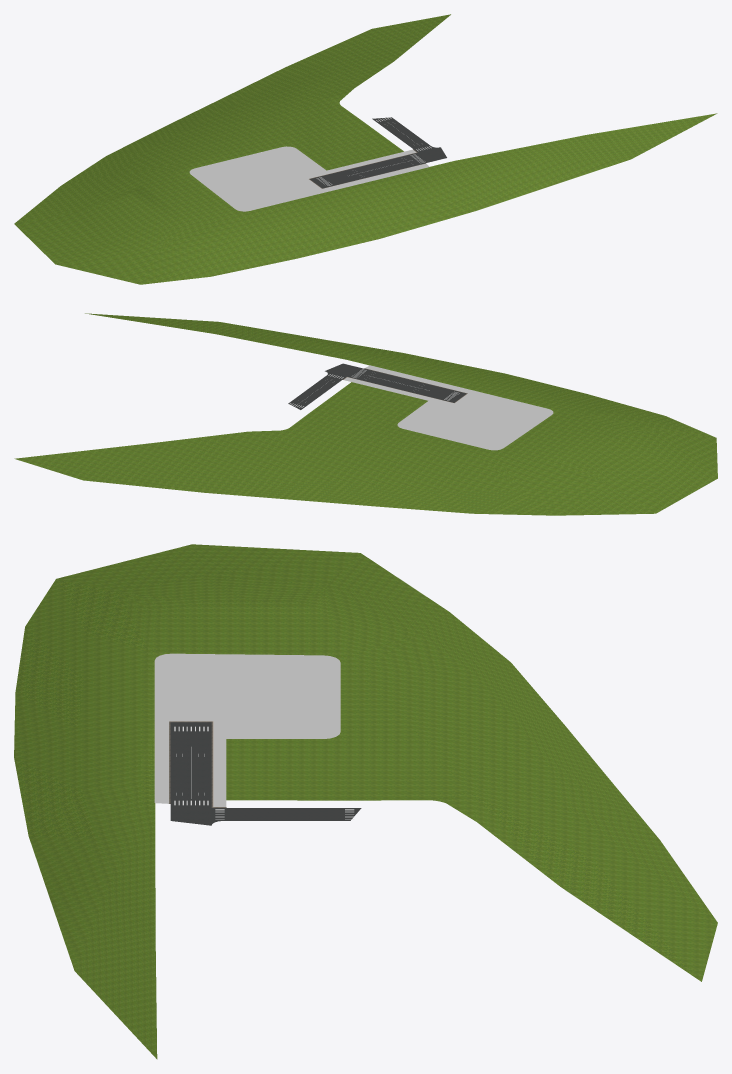
The model's file is New_Terrain_Area_21.fbx.
3 renders of one model, top to bottom at view 1: azimuth 30°, elevation 25°; view 2: azimuth 150°, elevation 25°; view 3: azimuth 270°, elevation 25°, orthographic. The views are drawn at different scales.
Parts seen in each view (by area): view 1: Area_21, Road_14; view 2: Area_21, Road_14; view 3: Area_21, Road_14.
Boxes of the visible parts, bbox=[...] form: Area_21: bbox=[14, 14, 717, 284]; Road_14: bbox=[310, 117, 446, 188]; Area_21: bbox=[14, 313, 717, 515]; Road_14: bbox=[288, 363, 465, 409]; Area_21: bbox=[14, 544, 717, 1059]; Road_14: bbox=[170, 722, 361, 825].
Size of the model in its own units: 54363 by 1402 by 31383.
